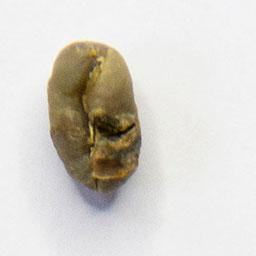peaberry: (42, 36, 145, 199)
